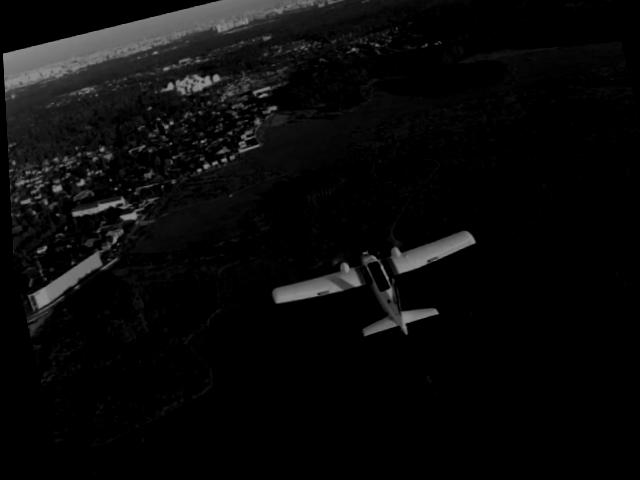hedef: (258, 220, 505, 371)
